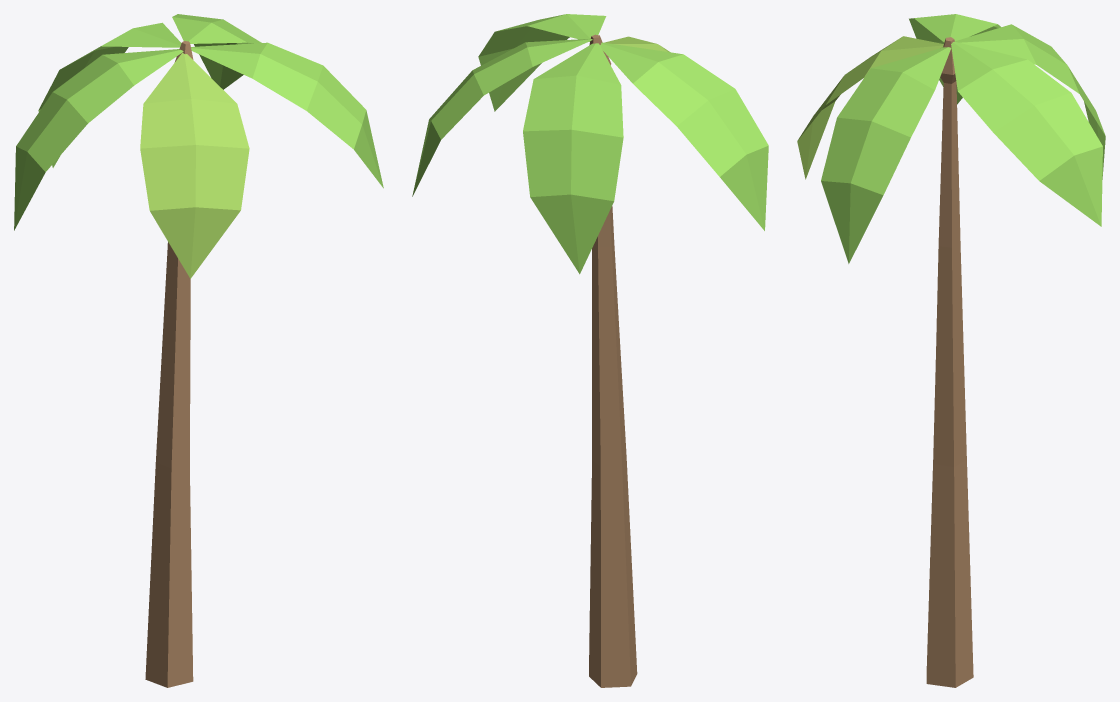
Rendered from Palm_Tree_s_01_LOD.fbx.
3 renders of one model, left to right at view 1: azimuth 30°, elevation 25°; view 2: azimuth 150°, elevation 25°; view 3: azimuth 270°, elevation 25°, orthographic. The views are drawn at different scales.
Visible parts, largest first — view 1: Palm_Tree_s_01_LOD0; view 2: Palm_Tree_s_01_LOD0; view 3: Palm_Tree_s_01_LOD0.
Boxes of the visible parts, box(x1,y1,x2,y2) form: Palm_Tree_s_01_LOD0: box(14, 14, 383, 687); Palm_Tree_s_01_LOD0: box(412, 14, 768, 687); Palm_Tree_s_01_LOD0: box(797, 14, 1105, 687).
Size of what is drawn, in the model's own units: 246 by 465 by 201.
